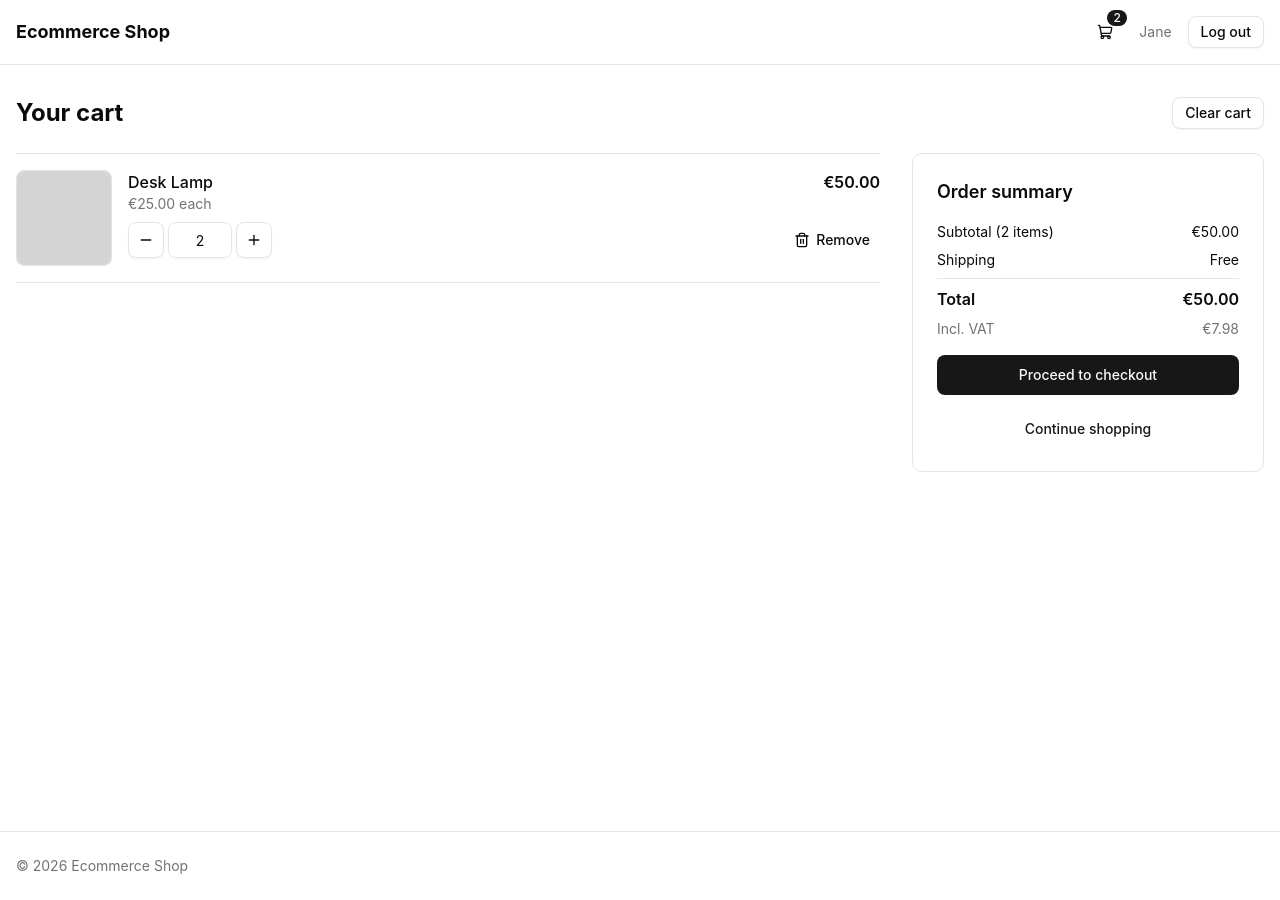
it: cart page › asks before clearing the cart
Click the button "Clear cart" at [1218, 113], box 1172,97 -> 1264,129
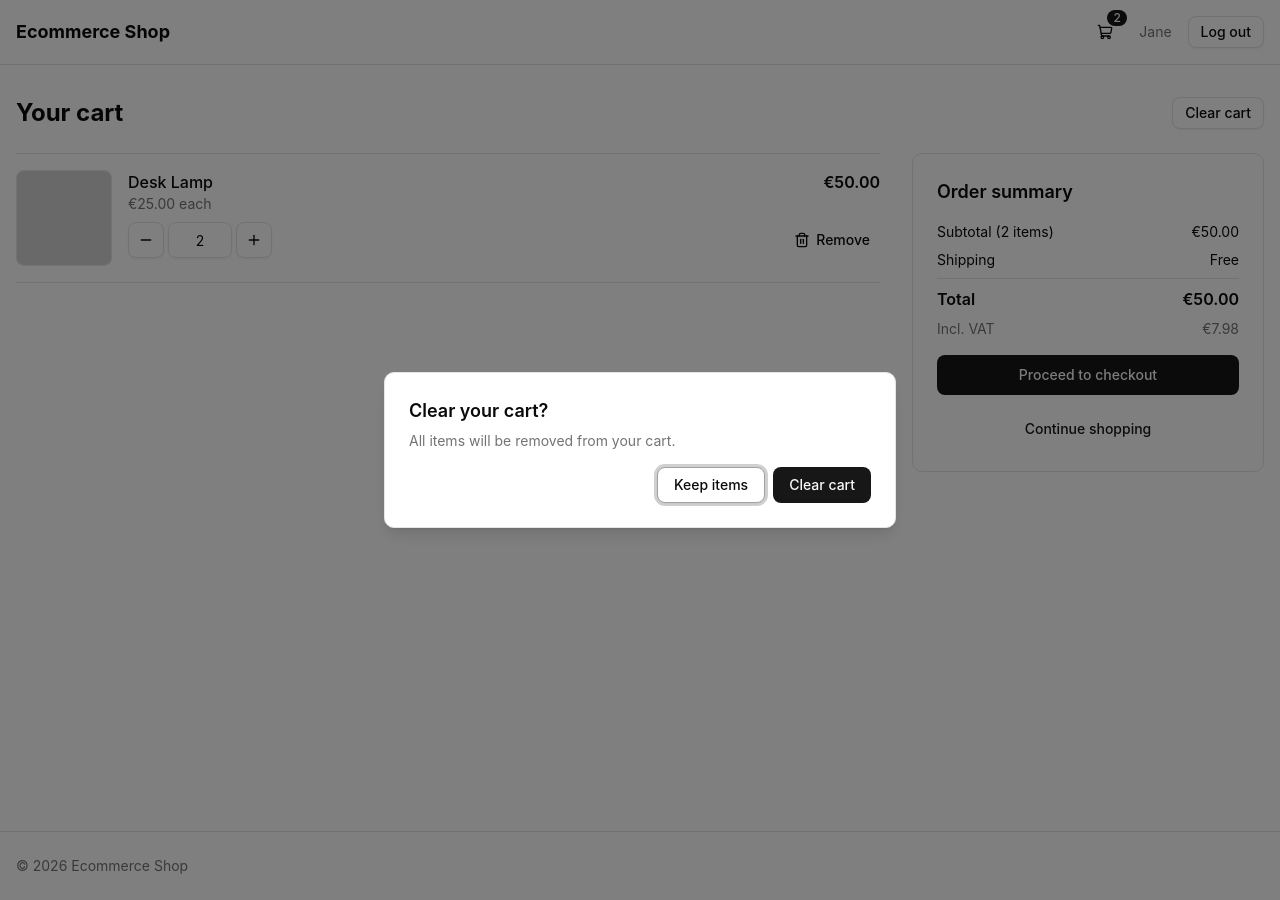
Click the button "Keep items" at [711, 485], box 657,467 -> 765,503
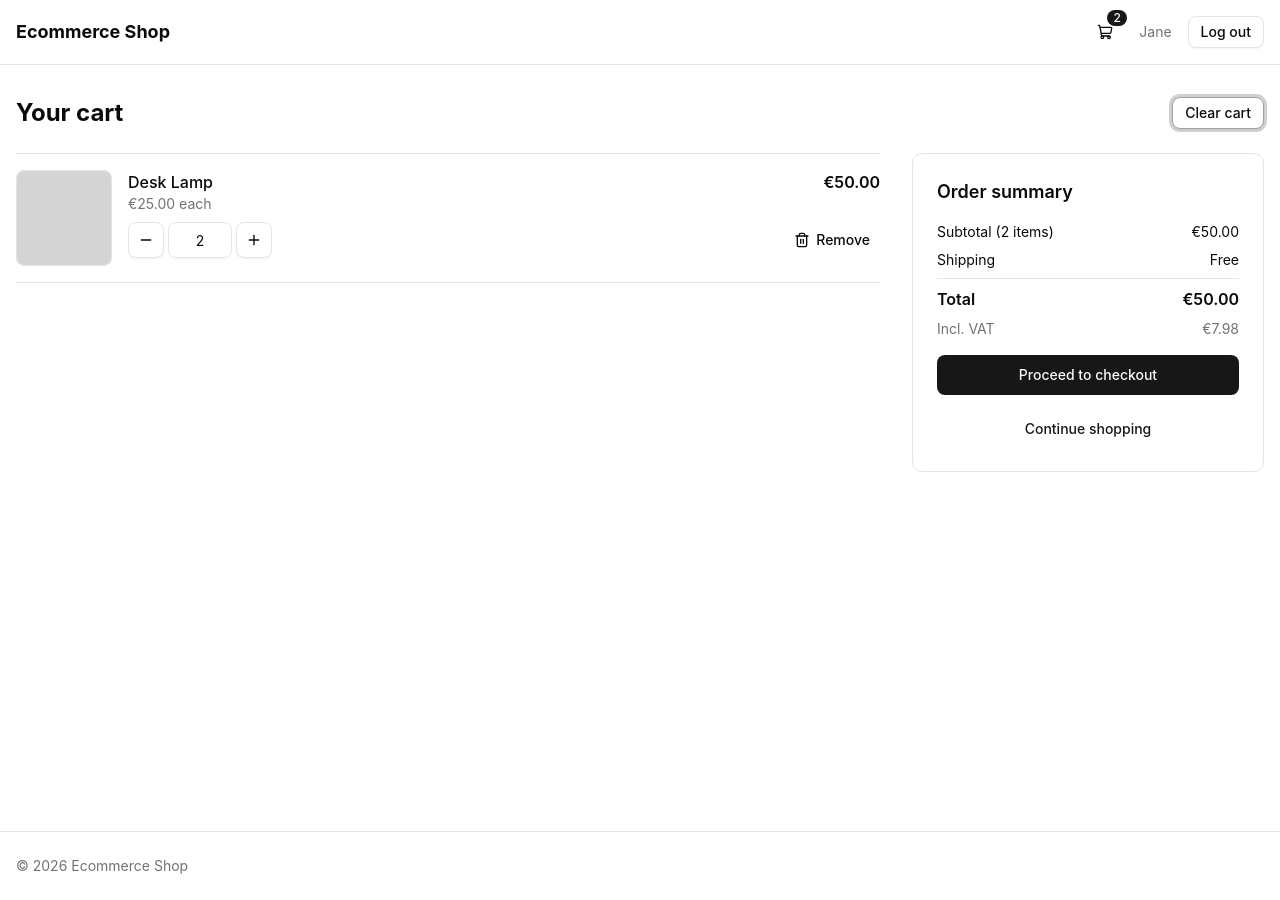
Click the button "Clear cart" at [1218, 113], box 1172,97 -> 1264,129
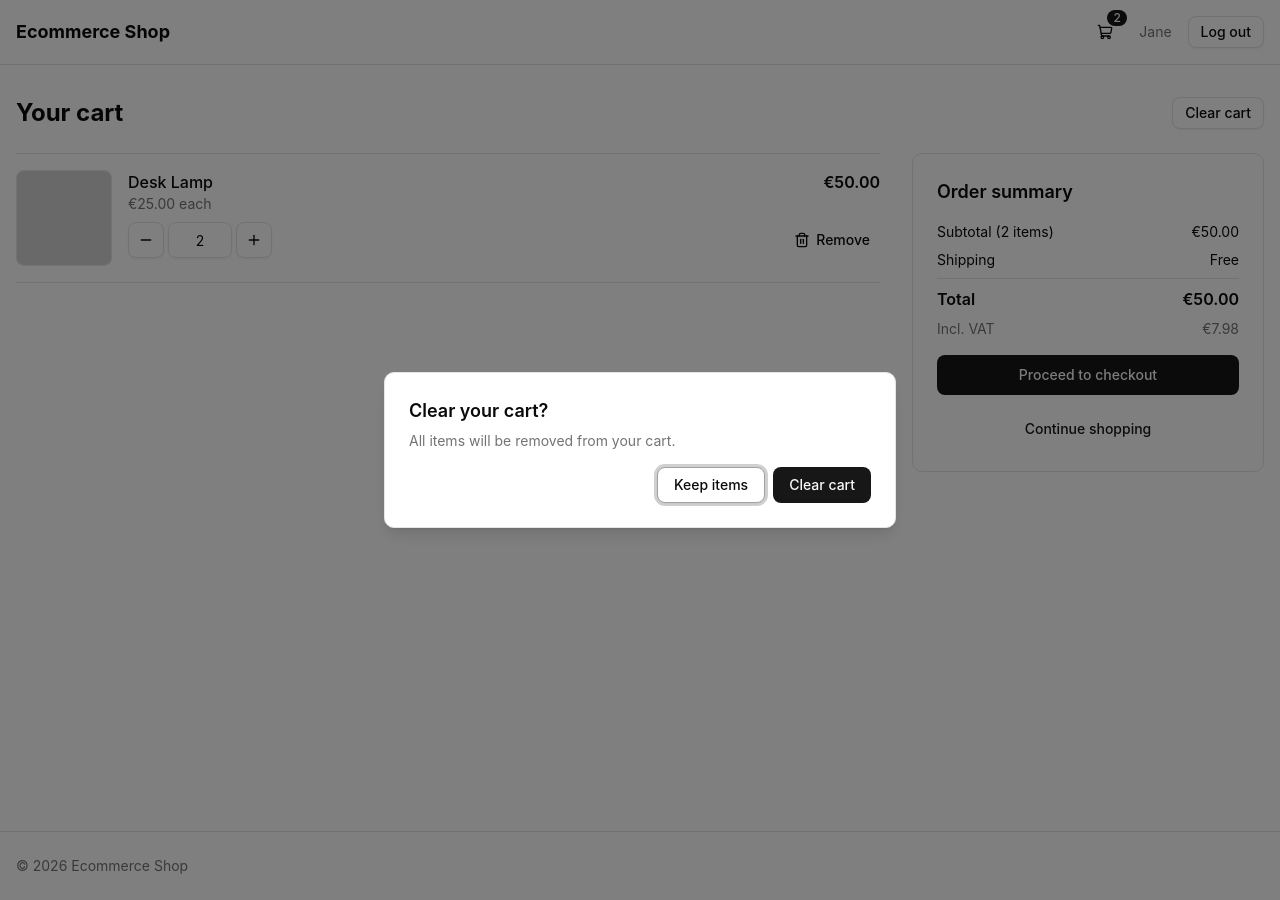
Click the button "Clear cart" at [822, 485], box 773,467 -> 871,503
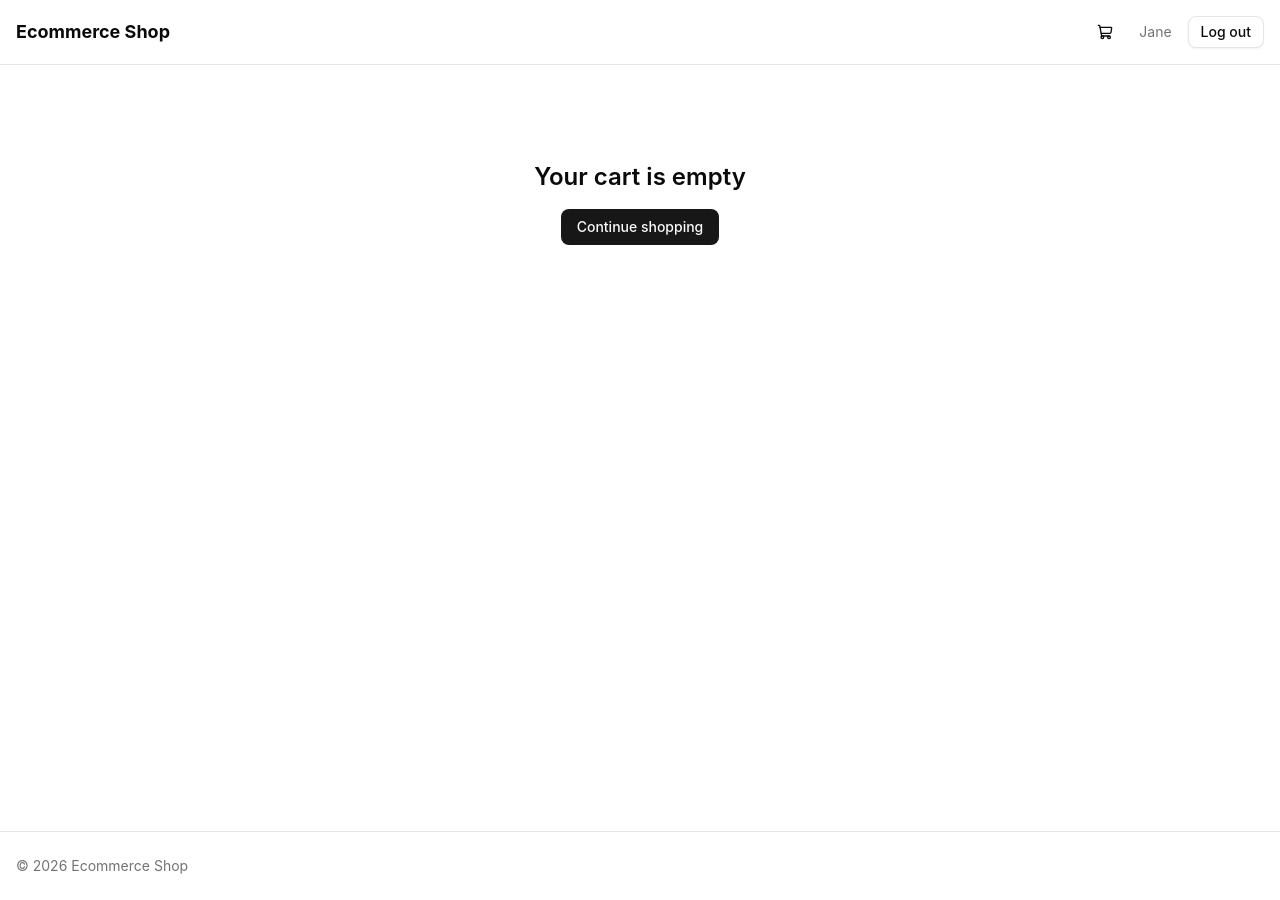
Result: the heading "Your cart is empty" is shown at 534,161 -> 746,193
